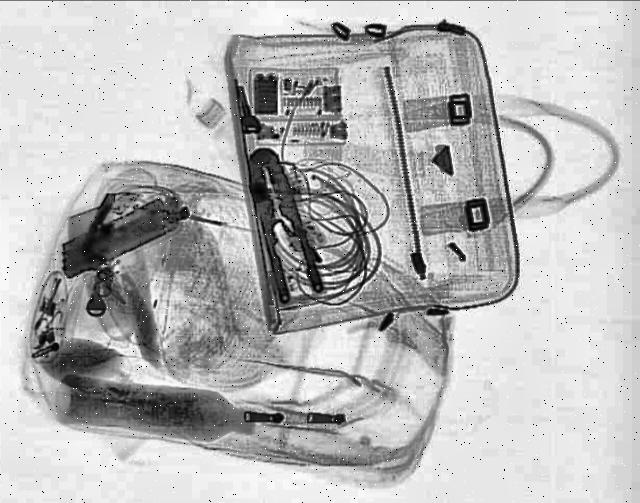Pliers: (240, 144, 328, 302)
